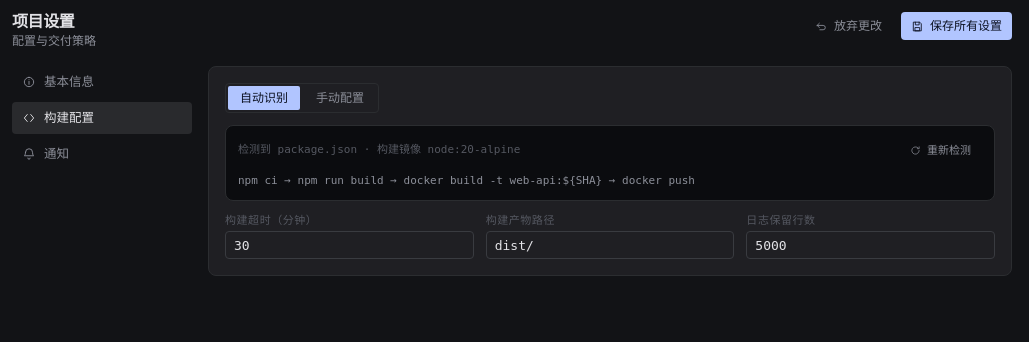
Test case: ProjectSettingsView › 切到通知显示三个开关与渠道选择
Step 1. Click the button "通知" → (102, 154), box [12, 138, 192, 170]
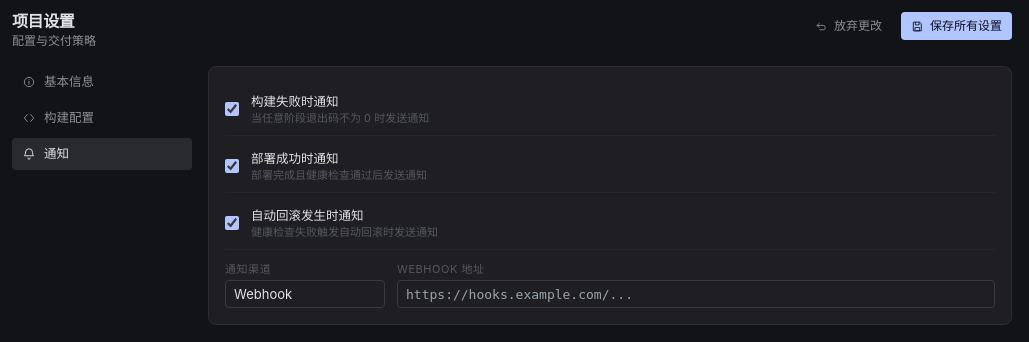
Now the text "构建失败时通知" is shown, box [251, 94, 338, 109]
Now the text "部署成功时通知" is shown, box [251, 151, 338, 166]
Now the text "自动回滚发生时通知" is shown, box [251, 208, 364, 223]
